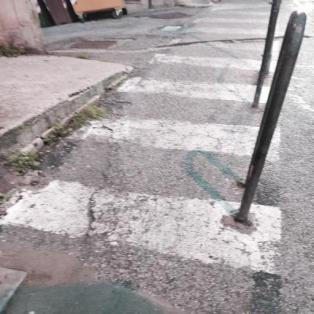Paso de Cebra: (0, 116, 290, 287), (108, 48, 314, 108)
